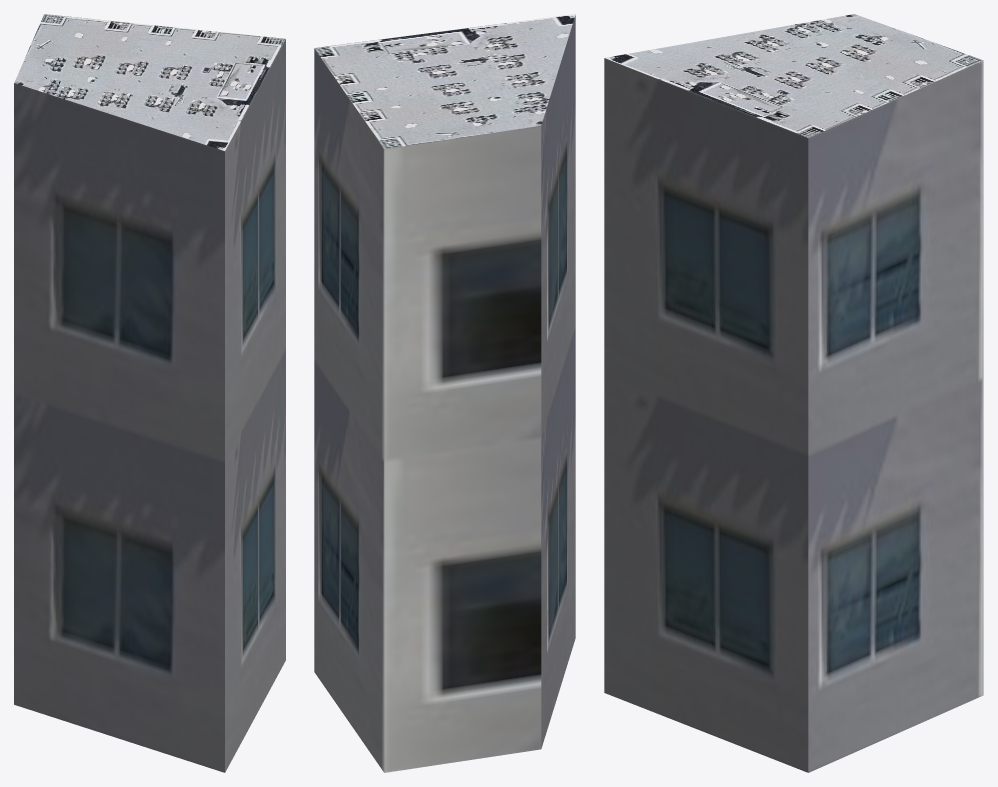
The model's file is ResTex__1286.fbx.
3 renders of one model, left to right at view 1: azimuth 30°, elevation 25°; view 2: azimuth 150°, elevation 25°; view 3: azimuth 270°, elevation 25°, orthographic. The views are drawn at different scales.
Visible parts, largest first — view 1: CityEngineMaterial_10_m, CityEngineMaterial_2_m; view 2: CityEngineMaterial_10_m, CityEngineMaterial_2_m; view 3: CityEngineMaterial_10_m, CityEngineMaterial_2_m.
Boxes of the visible parts, x1,y1,x2,y2 form: CityEngineMaterial_10_m: [14, 39, 285, 772]; CityEngineMaterial_2_m: [14, 14, 285, 150]; CityEngineMaterial_10_m: [314, 15, 575, 772]; CityEngineMaterial_2_m: [314, 14, 575, 149]; CityEngineMaterial_10_m: [604, 58, 983, 772]; CityEngineMaterial_2_m: [605, 14, 983, 137].
Size of the model in its own units: 2.52 by 6 by 3.25.
2 materials, 2 textured.
